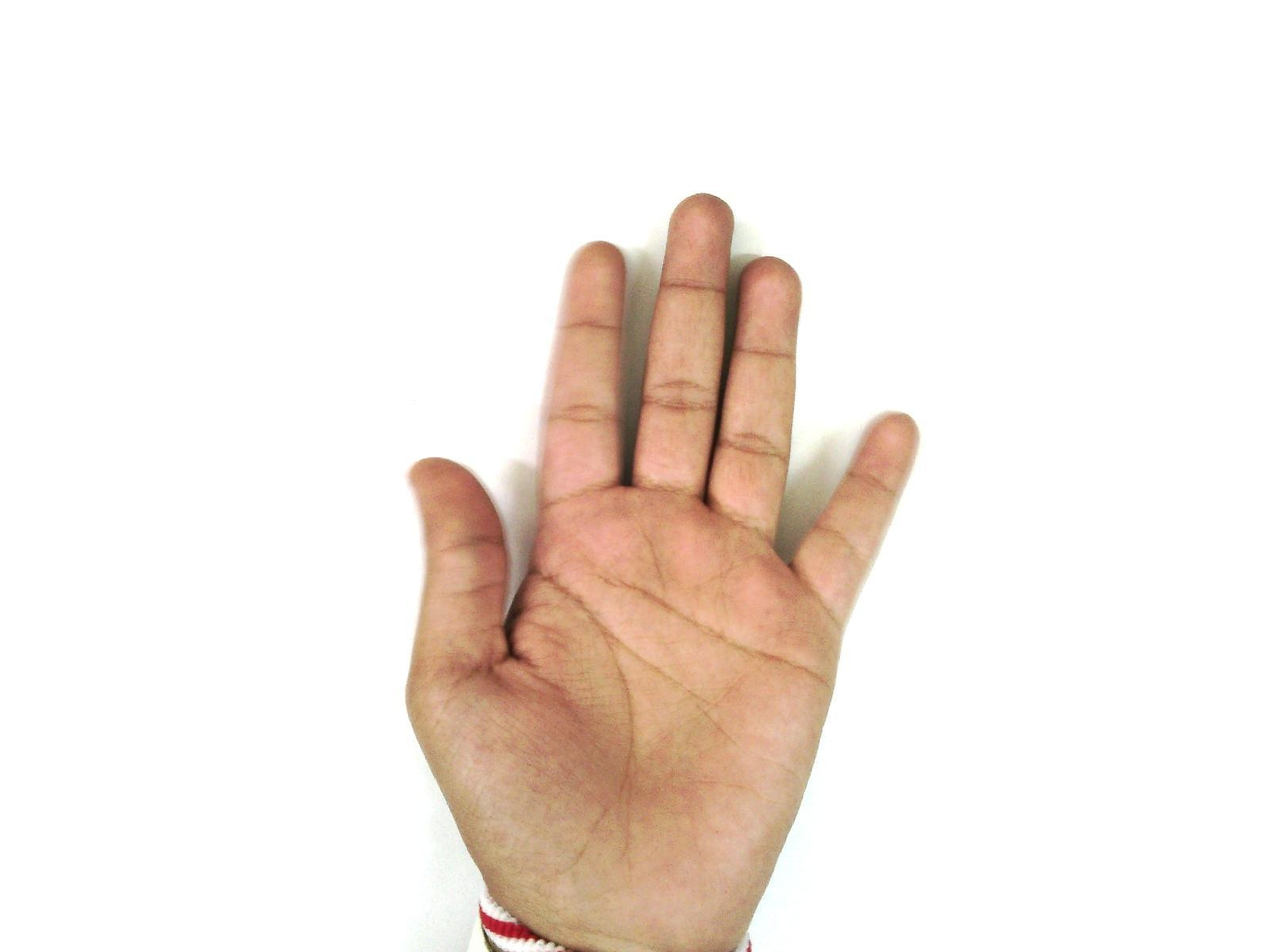open_palm: (402, 192, 922, 951)
